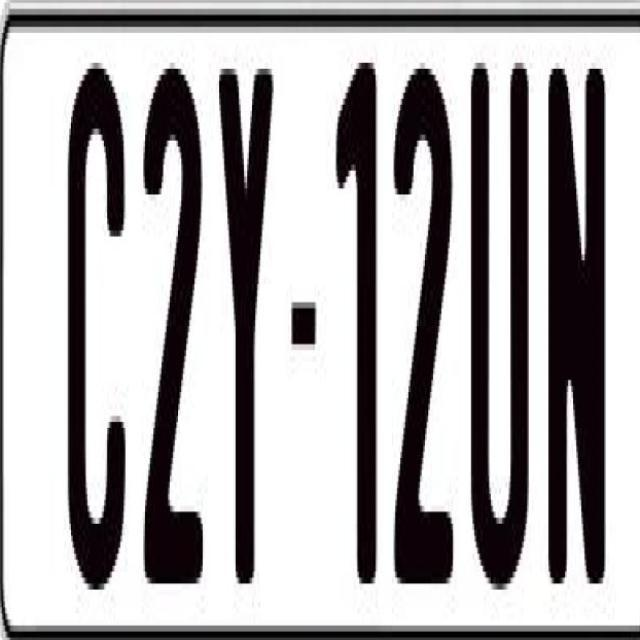license-plate: (4, 18, 640, 616)
